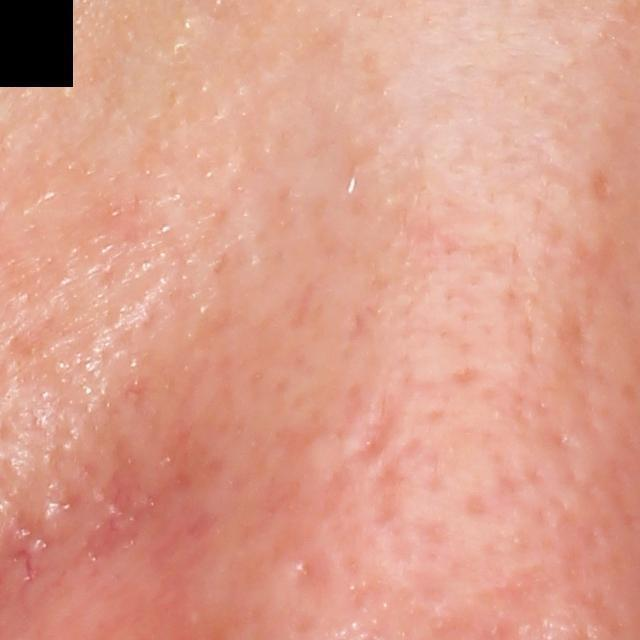atrophic_scar: (80, 421, 231, 564), (345, 384, 406, 473), (368, 440, 426, 533)
